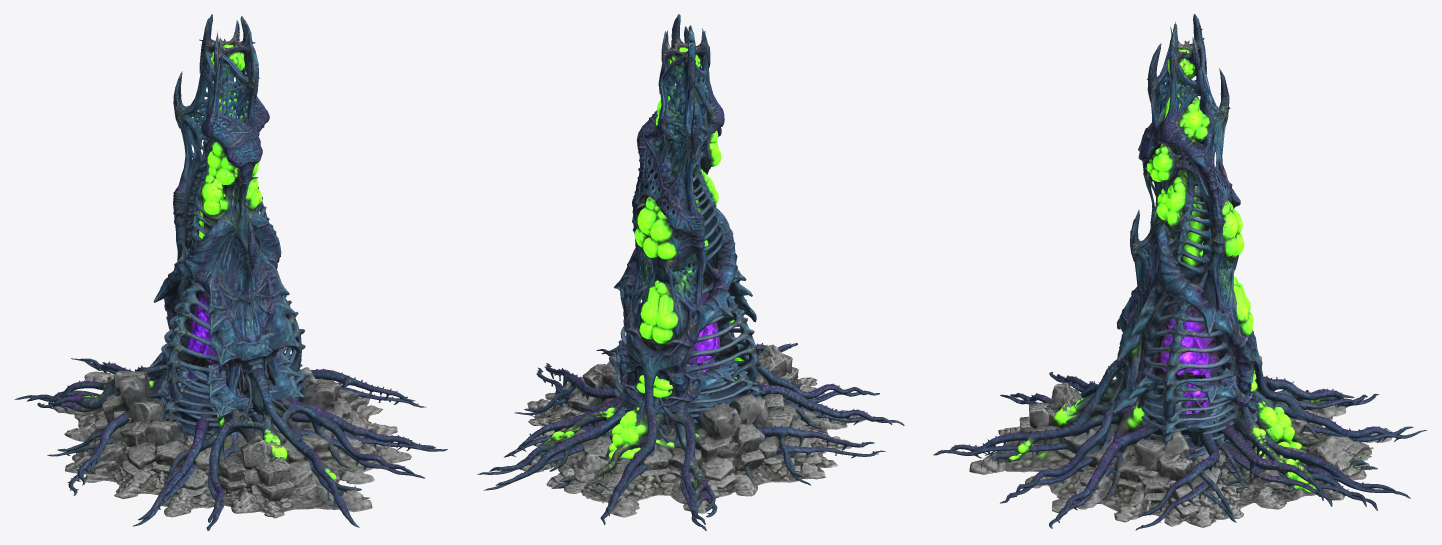
The model's file is hive.glb.
The picture shows the model from 3 angles, left to right: view 1: azimuth 30°, elevation 25°; view 2: azimuth 150°, elevation 25°; view 3: azimuth 270°, elevation 25°; orthographic projection. The views are drawn at different scales.
Visible parts, largest first — view 1: Hive, HiveDestroyed, HiveCracked; view 2: Hive, HiveDestroyed, HiveCracked; view 3: Hive, HiveDestroyed, HiveCracked.
Boxes of the visible parts, x1,y1,x2,y2 form: Hive: [26, 14, 435, 522]; HiveDestroyed: [14, 337, 447, 530]; HiveCracked: [84, 49, 326, 476]; Hive: [489, 14, 892, 524]; HiveDestroyed: [477, 335, 904, 530]; HiveCracked: [548, 45, 746, 486]; Hive: [947, 14, 1413, 522]; HiveDestroyed: [933, 366, 1427, 530]; HiveCracked: [1016, 52, 1319, 479].
Size of what is drawn, in the model's own units: 52.36 by 60 by 61.98.
Materials: 2 (1 with a texture image).
